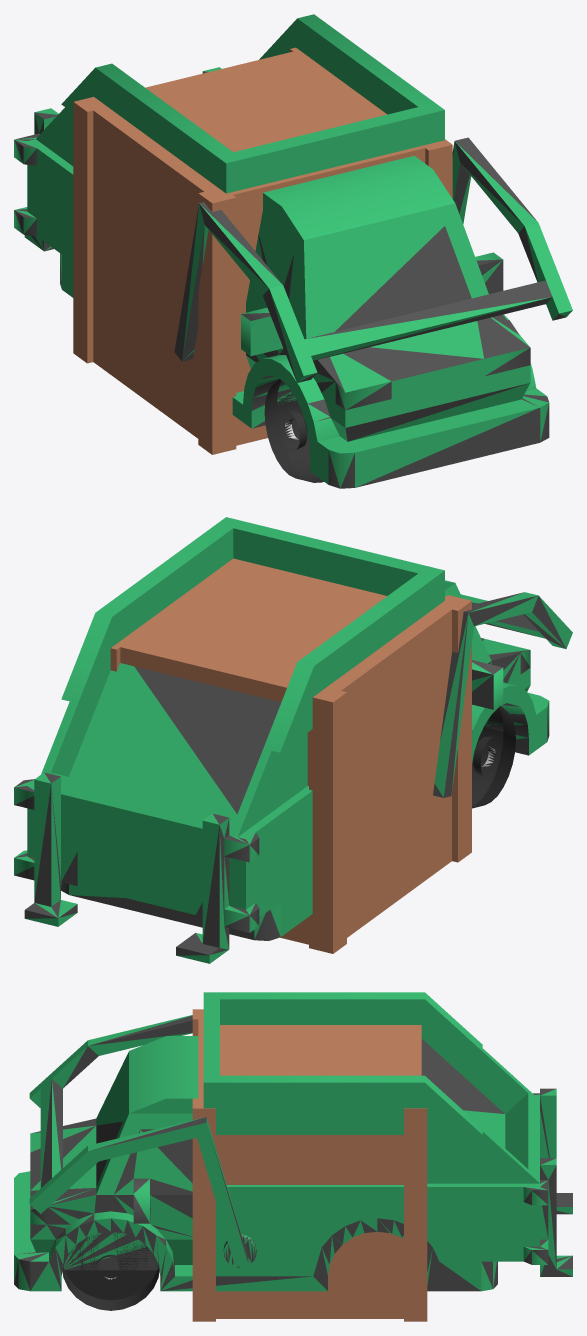
The model's file is refinery.glb.
The picture shows the model from 3 angles, top to bottom: view 1: azimuth 30°, elevation 25°; view 2: azimuth 150°, elevation 25°; view 3: azimuth 270°, elevation 25°; orthographic projection. The views are drawn at different scales.
Size of the model in its own units: 11.2 by 11.2 by 23.8.
